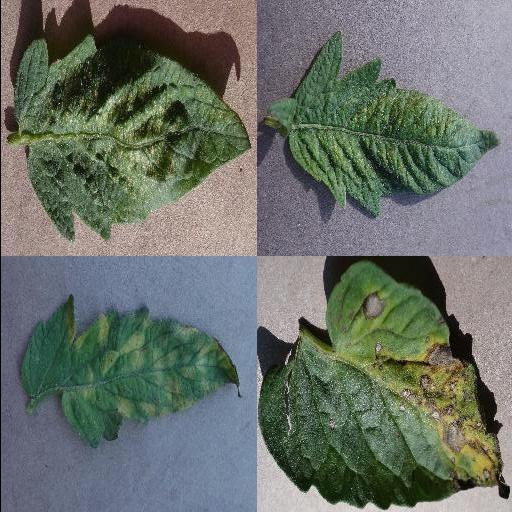Early Blight: (256, 263, 510, 510)
Leaf Mold: (21, 296, 241, 448)
Spider Mites: (12, 36, 252, 242), (285, 30, 499, 216)
